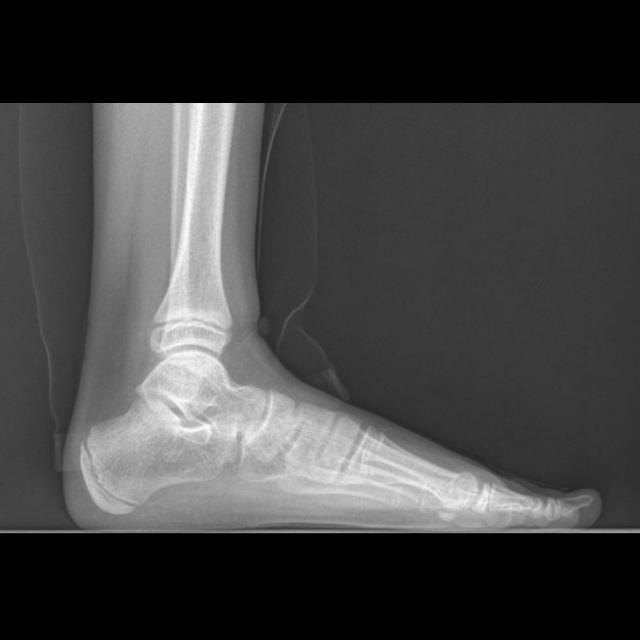a: (80, 398, 222, 515)
b: (247, 388, 297, 464)
c: (345, 427, 479, 516)
